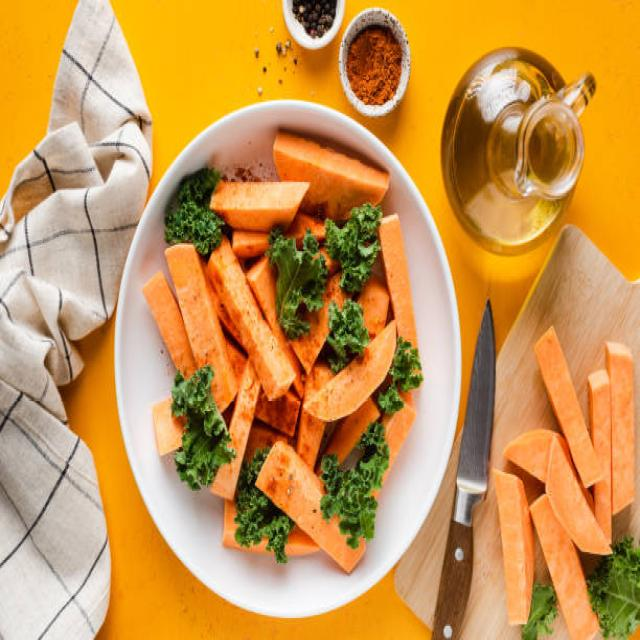pumpkin: (138, 208, 413, 578), (501, 328, 633, 640), (216, 132, 389, 232)
